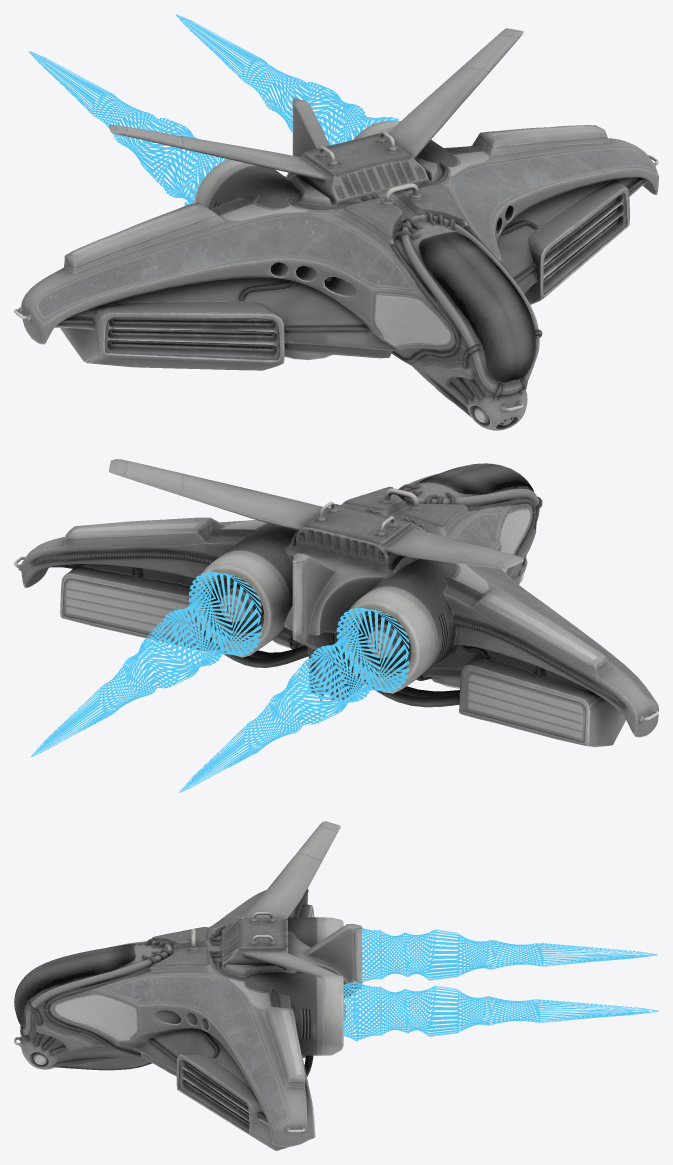
Rendered from ship.glb.
3 renders of one model, top to bottom at view 1: azimuth 30°, elevation 25°; view 2: azimuth 150°, elevation 25°; view 3: azimuth 270°, elevation 25°, orthographic. The views are drawn at different scales.
Parts seen in each view (by area): view 1: RetopoGroup2, FlameL, FlameR; view 2: RetopoGroup2, FlameL, FlameR; view 3: RetopoGroup2, FlameR, FlameL.
Part boxes in pixels (bbox=[...]): RetopoGroup2: bbox=[14, 28, 658, 430]; FlameL: bbox=[28, 51, 227, 205]; FlameR: bbox=[176, 14, 400, 145]; RetopoGroup2: bbox=[14, 459, 658, 747]; FlameL: bbox=[179, 608, 409, 792]; FlameR: bbox=[30, 571, 261, 757]; RetopoGroup2: bbox=[14, 821, 362, 1150]; FlameR: bbox=[343, 980, 658, 1041]; FlameL: bbox=[362, 928, 657, 982].
Bounding box in the file's own units: 9.55 × 3.1 × 10.7.
2 materials, 1 textured.
